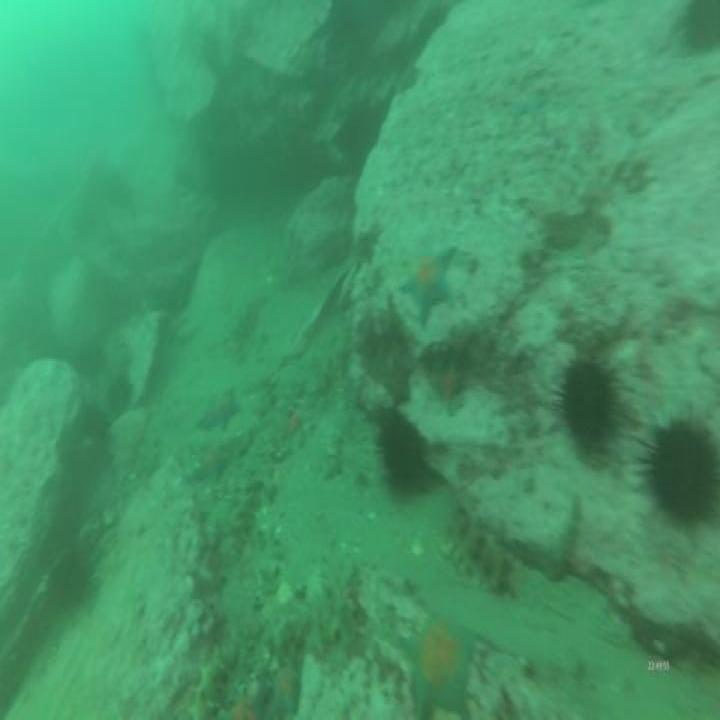echinus: (636, 411, 720, 524), (552, 352, 630, 471), (373, 410, 432, 492), (49, 548, 93, 618), (678, 0, 720, 59), (105, 370, 135, 421)
holothurian: (439, 501, 517, 603), (184, 643, 230, 720)
starfish: (399, 606, 480, 720), (398, 240, 460, 331), (196, 380, 245, 436), (377, 350, 418, 416), (186, 437, 237, 487), (265, 654, 303, 720), (223, 682, 269, 720)
